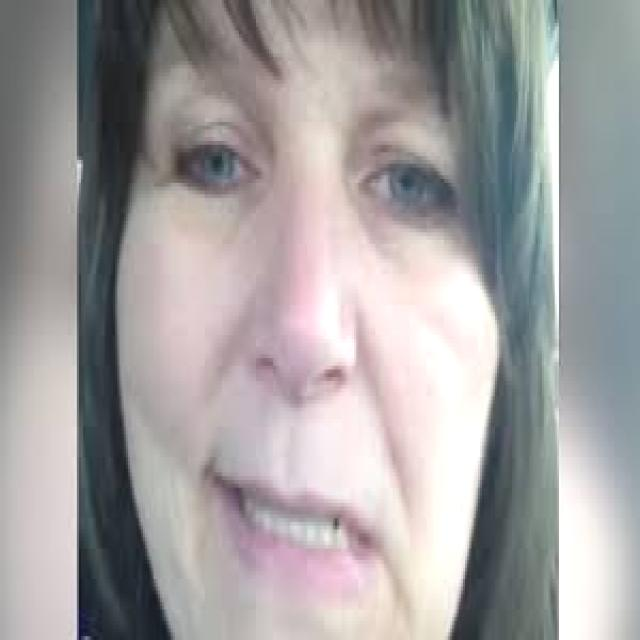stroke_face: (102, 3, 503, 640)
